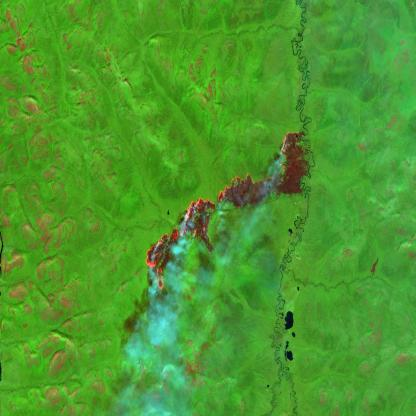fire: (143, 127, 302, 294)
